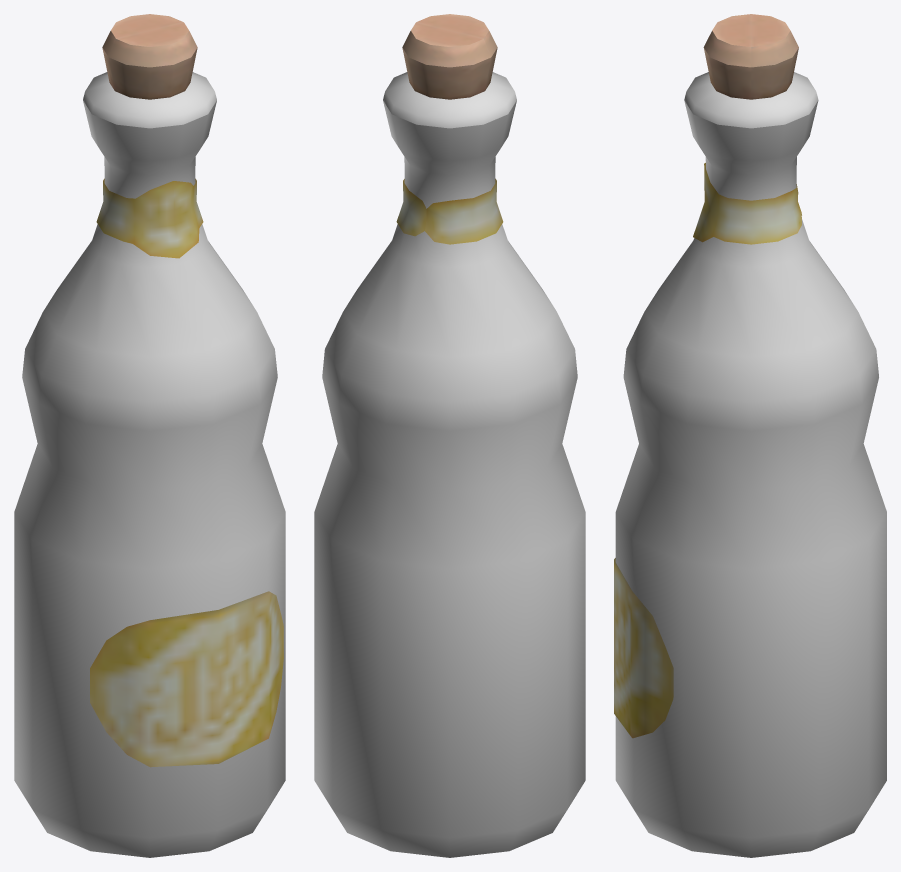
File: Homeworld_Exterior_Fd_Thing_Prop_Fengdaji_02_Vo.fbx
The picture shows the model from 3 angles, left to right: view 1: azimuth 30°, elevation 25°; view 2: azimuth 150°, elevation 25°; view 3: azimuth 270°, elevation 25°; orthographic projection.
Visible parts, largest first — view 1: Homeworld_Exterior_Fd_Thing_Prop_Fengdaji_02_Vo; view 2: Homeworld_Exterior_Fd_Thing_Prop_Fengdaji_02_Vo; view 3: Homeworld_Exterior_Fd_Thing_Prop_Fengdaji_02_Vo.
Boxes of the visible parts, x1,y1,x2,y2 form: Homeworld_Exterior_Fd_Thing_Prop_Fengdaji_02_Vo: (14,14,285,857); Homeworld_Exterior_Fd_Thing_Prop_Fengdaji_02_Vo: (314,14,585,857); Homeworld_Exterior_Fd_Thing_Prop_Fengdaji_02_Vo: (614,14,886,857).
Size of what is drawn, in the model's own units: 0.108 by 0.3414 by 0.1086.
